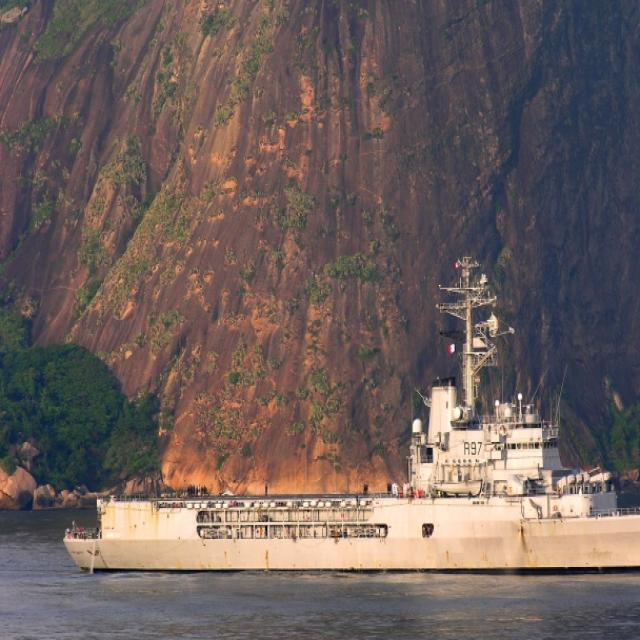Portanaves: (61, 252, 640, 579)
